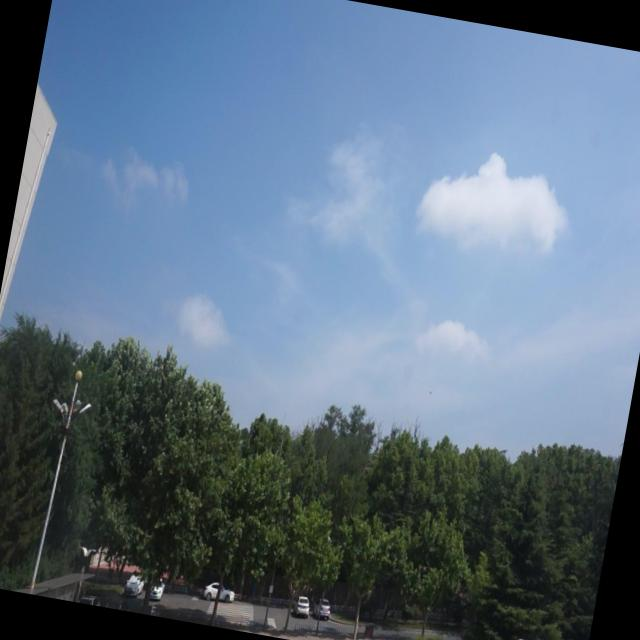drone: (424, 381, 436, 400)
